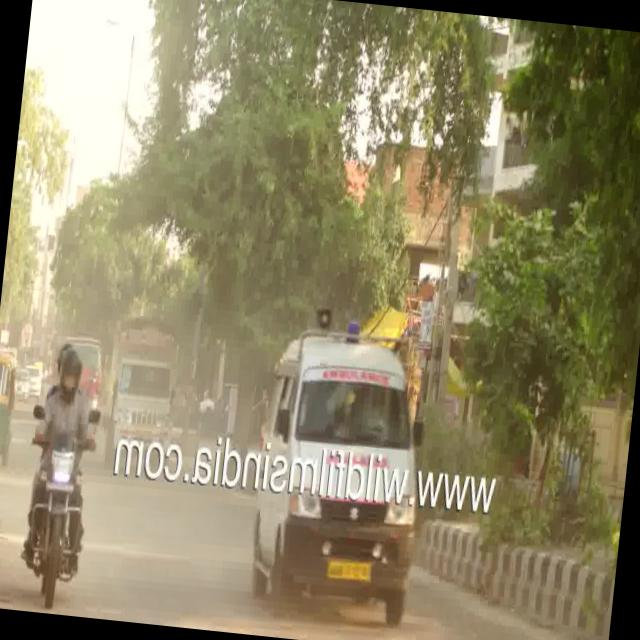ambulance: (258, 313, 424, 457)
